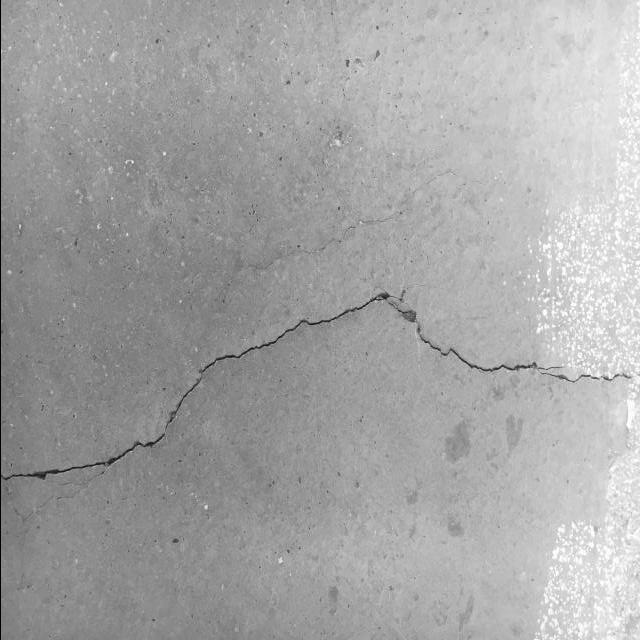SurfaceCrack: (0, 270, 639, 509)
